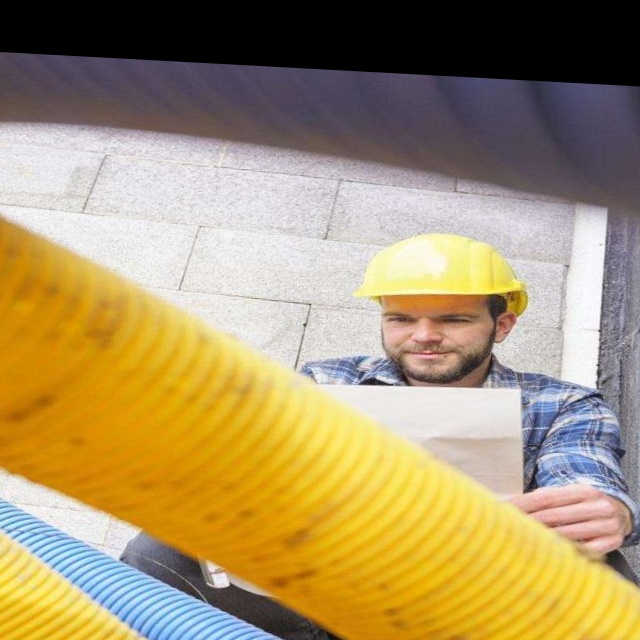Con_Casco: (347, 233, 524, 379)
